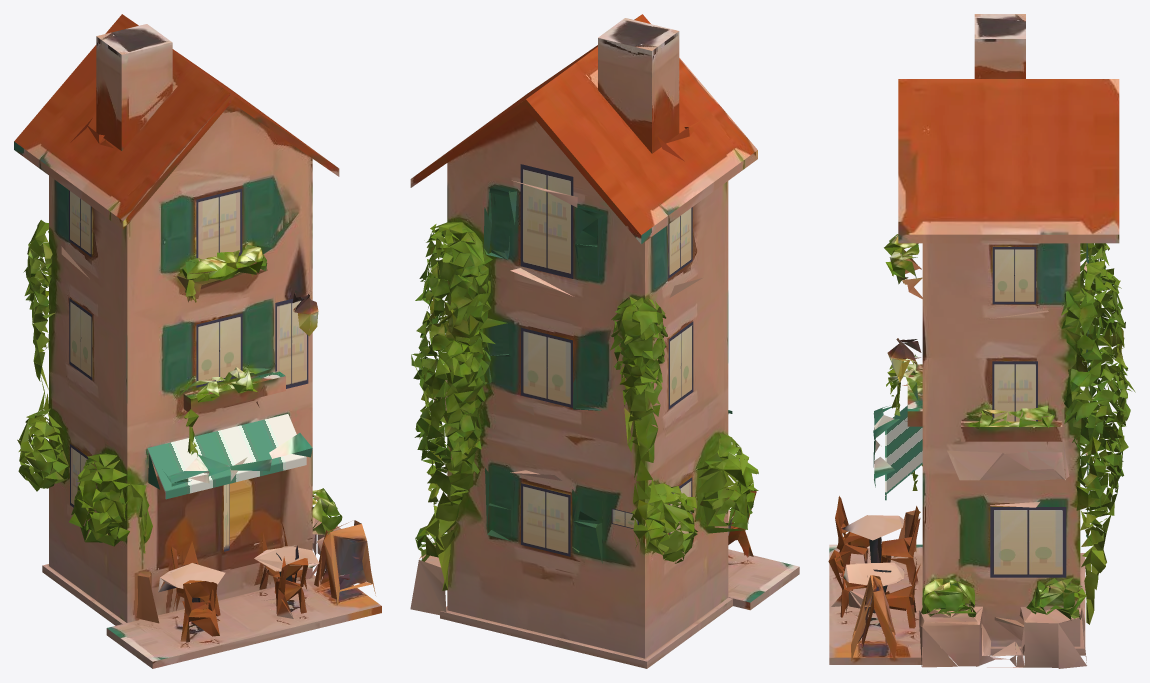
The model's file is m11_04_cafe_r90.glb.
3 renders of one model, left to right at view 1: azimuth 30°, elevation 25°; view 2: azimuth 150°, elevation 25°; view 3: azimuth 270°, elevation 25°, orthographic. The views are drawn at different scales.
Parts seen in each view (by area): view 1: shell, cafe_detail; view 2: shell, cafe_detail; view 3: shell, cafe_detail.
Part boxes in pixels (x1,y1,x2,y2): shell: (14, 14, 381, 668); cafe_detail: (17, 118, 375, 642); shell: (410, 14, 799, 668); cafe_detail: (410, 120, 758, 615); shell: (829, 14, 1119, 664); cafe_detail: (828, 234, 1135, 668).
Bounding box in the file's own units: 7.93 × 16.11 × 8.03.
5 materials, 5 textured.
